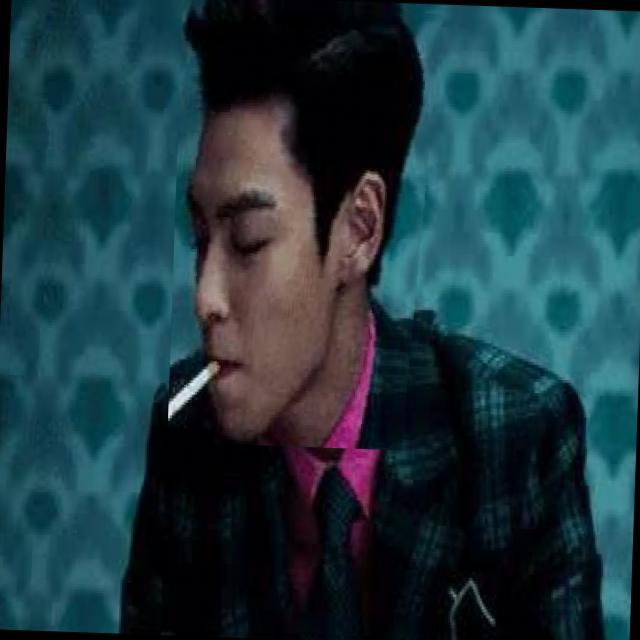cigarette: (172, 329, 276, 446)
